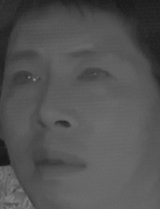eye: (73, 63, 114, 87), (6, 67, 44, 91)
mouth: (29, 145, 85, 182)
